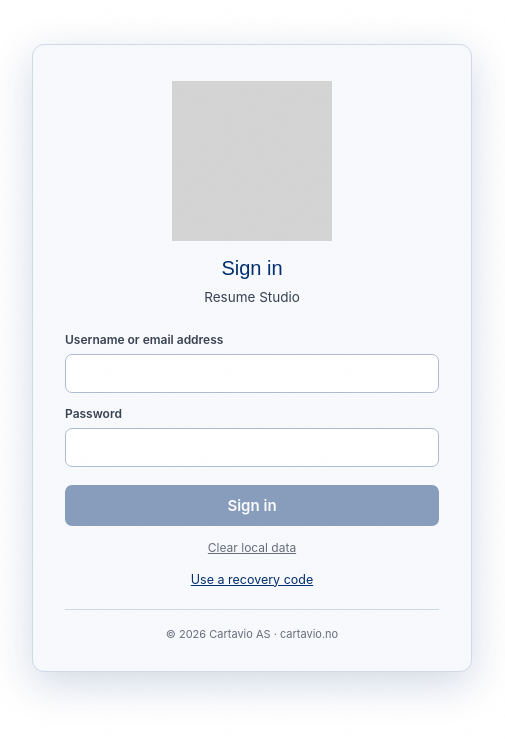
Test: <AuthGate> › accounts mode › shows the server's refusal verbatim — it must not become more specific
Type "kari" into the field labelled "Username or email address" at {"x": 252, "y": 373}, box x1=65 y1=354 x2=439 y2=393
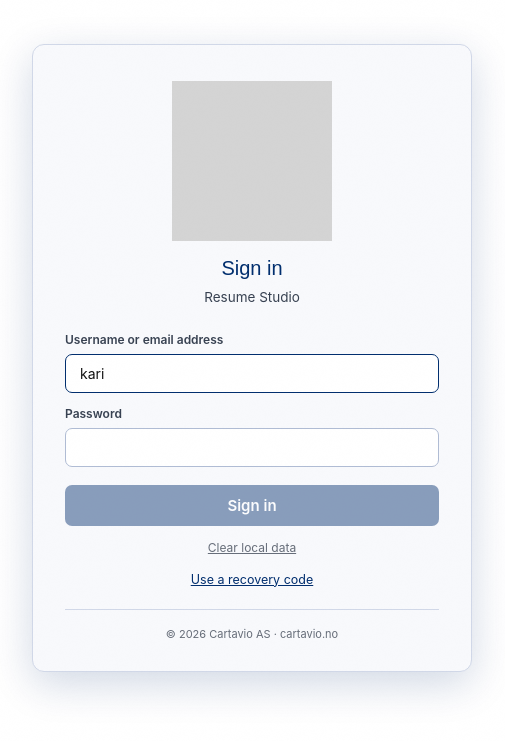
Type "nope" into the password field labelled "Password" at {"x": 252, "y": 447}, box x1=65 y1=428 x2=439 y2=467
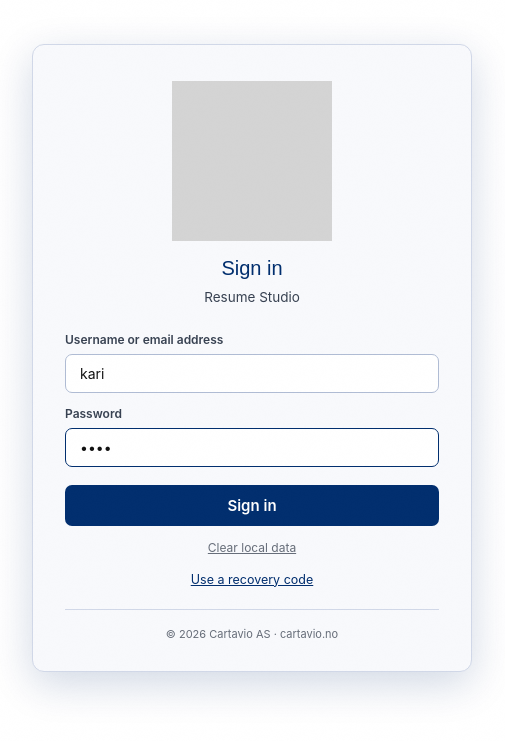
Click the button "Sign in" at {"x": 252, "y": 505}, box x1=65 y1=485 x2=439 y2=526
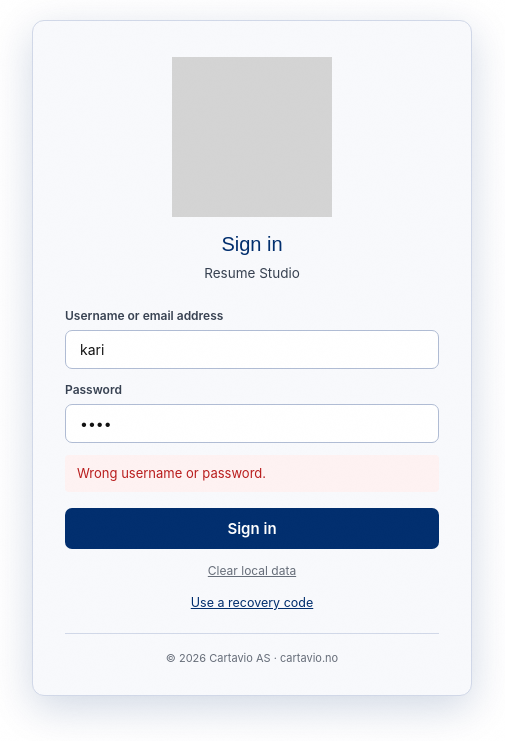
Expected: the message reads "Wrong username or password.", x1=77 y1=465 x2=266 y2=481
